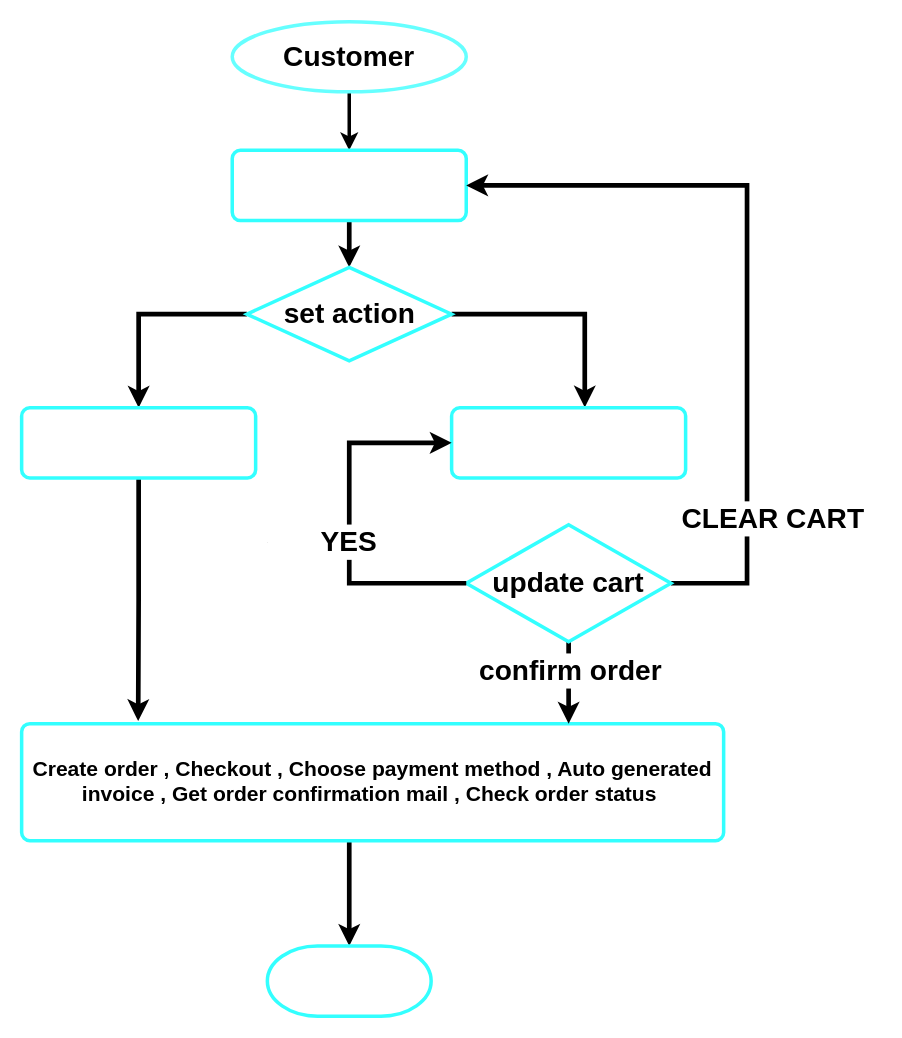
Some shapes in this 902 by 1038 pixel diagram are drawn without their labels. Each missing label, with the box of its shape:
Add to cart: (449, 405, 687, 479)
Browse Product: (230, 148, 467, 222)
Buy: (19, 405, 257, 479)
END: (265, 944, 432, 1017)
